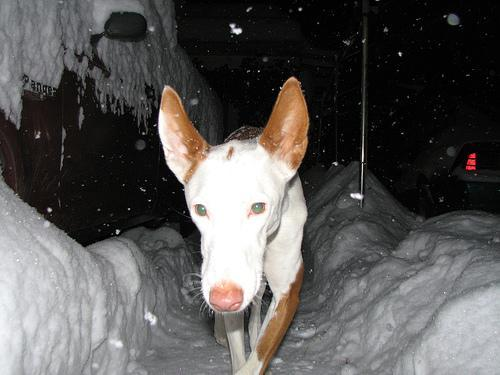Ibizan_hound: (155, 79, 315, 374)
